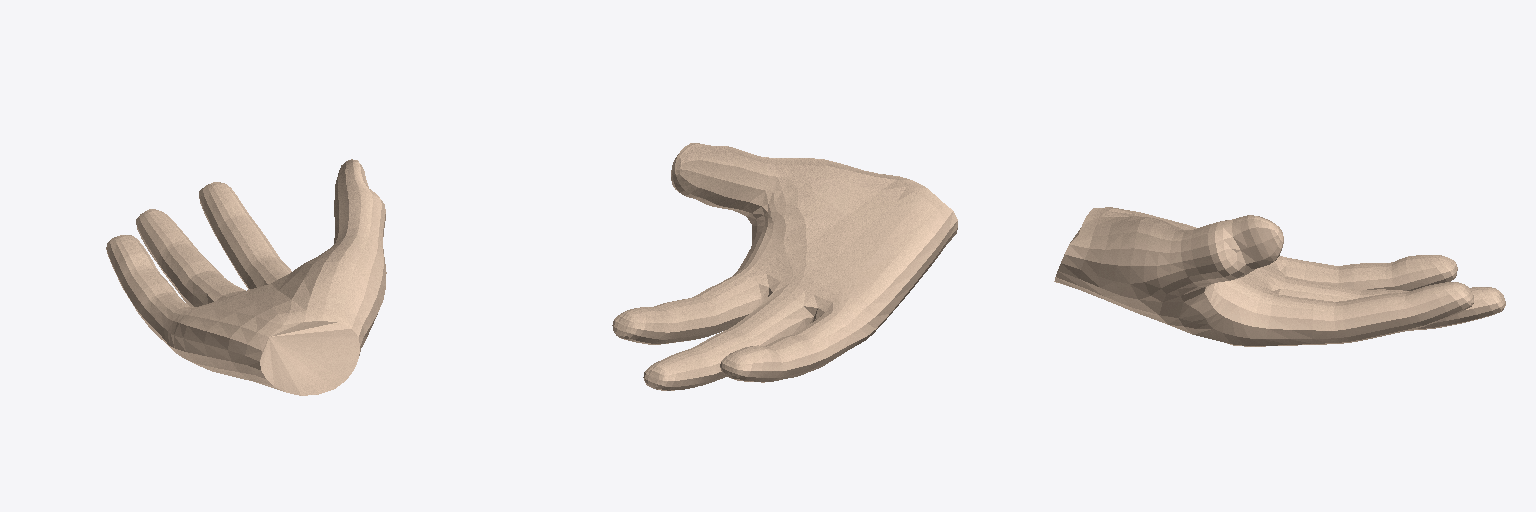
3 renders of one model, left to right at view 1: azimuth 30°, elevation 25°; view 2: azimuth 150°, elevation 25°; view 3: azimuth 270°, elevation 25°, orthographic.
Parts seen in each view (by area): view 1: l_hand_Cube.003; view 2: l_hand_Cube.003; view 3: l_hand_Cube.003.
Part boxes in pixels (x1,y1,x2,y2): l_hand_Cube.003: (106,159,386,395); l_hand_Cube.003: (612,143,957,390); l_hand_Cube.003: (1054,207,1505,346).
Bounding box in the file's own units: 0.1295 × 0.1018 × 0.2543.
1 materials, 1 textured.